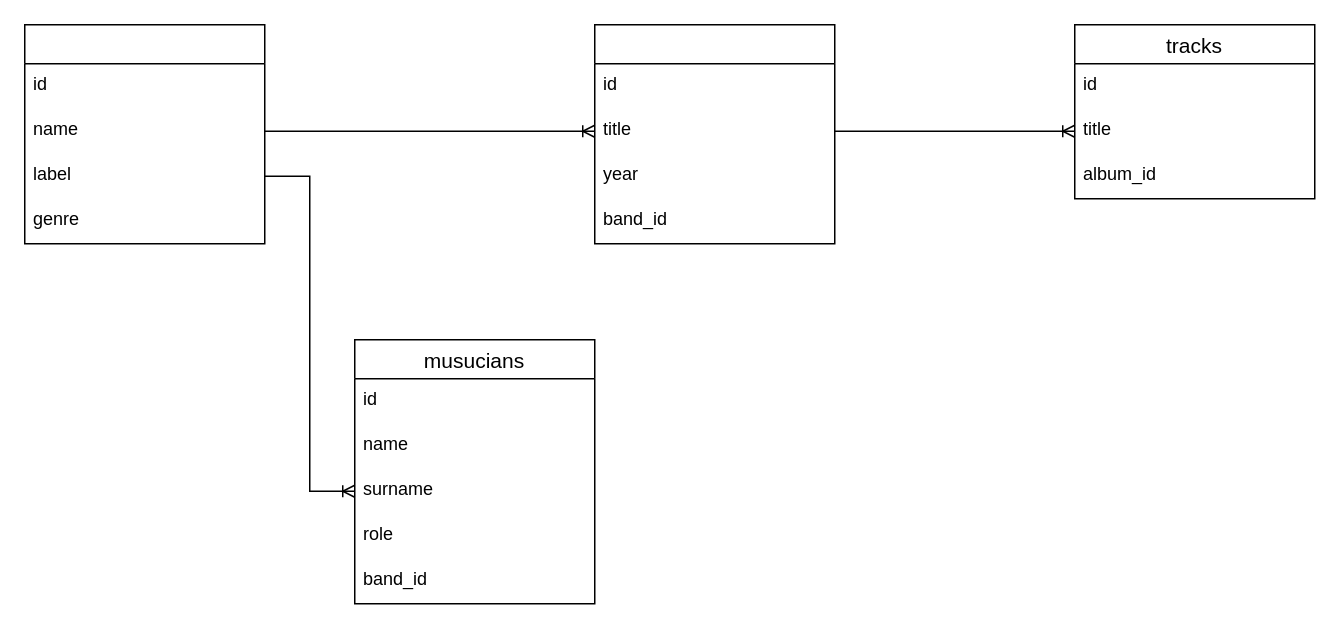
The diagram is 1340 pixels wide and 629 high, and some of its shapes have lost their labels. Here are the shapes that lost their labels. From the top down, the box of each, then its label:
(23, 23, 265, 244): bands
(593, 23, 835, 244): albums
